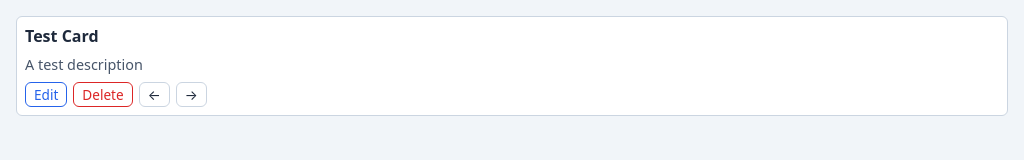
Test case: Card › clicking edit shows input with current title
Click the button with test id "edit-button" at {"x": 46, "y": 94}, box left=25, top=82, right=67, bottom=107
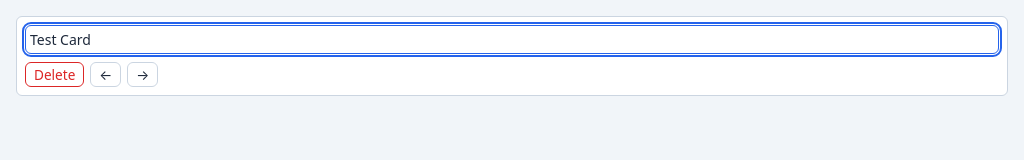
Expected: the field with test id "edit-input" holds "Test Card", left=25, top=25, right=999, bottom=54
